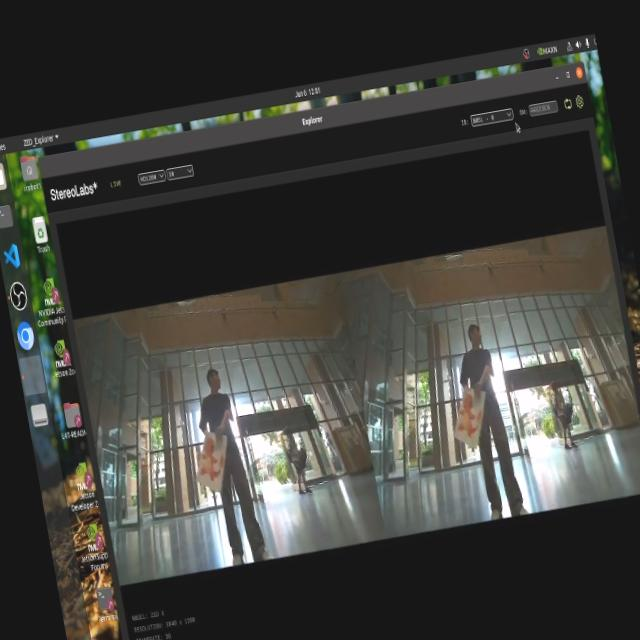red: (447, 382, 488, 446), (195, 427, 232, 482)
